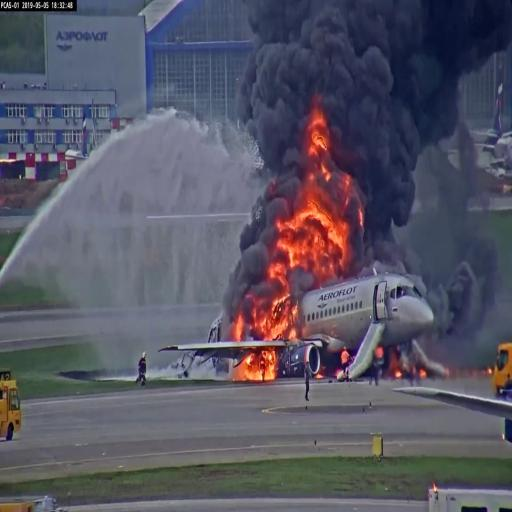fire: (284, 208, 338, 270), (266, 300, 298, 341), (248, 355, 274, 377)
smoke: (337, 49, 413, 205), (243, 39, 307, 157)
